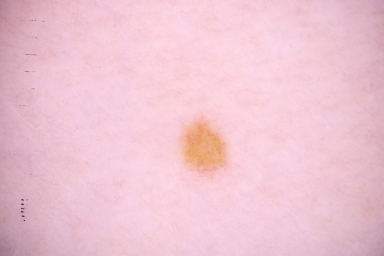nevus: (183, 120, 231, 176)
